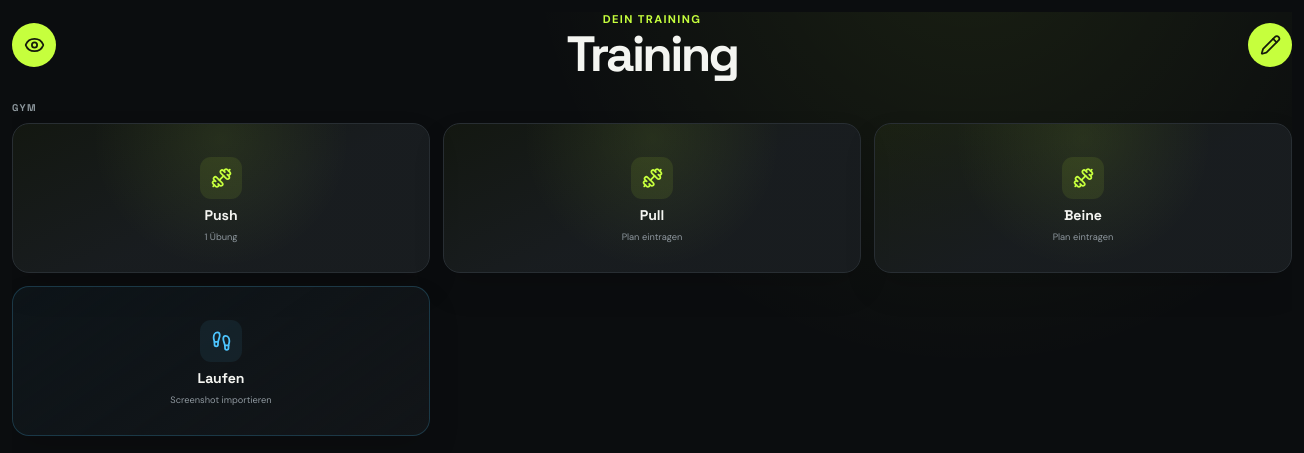
GYM-Workflow › zeigt einen klaren Empty State im Trainingsverlauf
Click the button named "Trainingsverlauf öffnen". click: (34, 45)
box: x1=12 y1=23 x2=56 y2=67
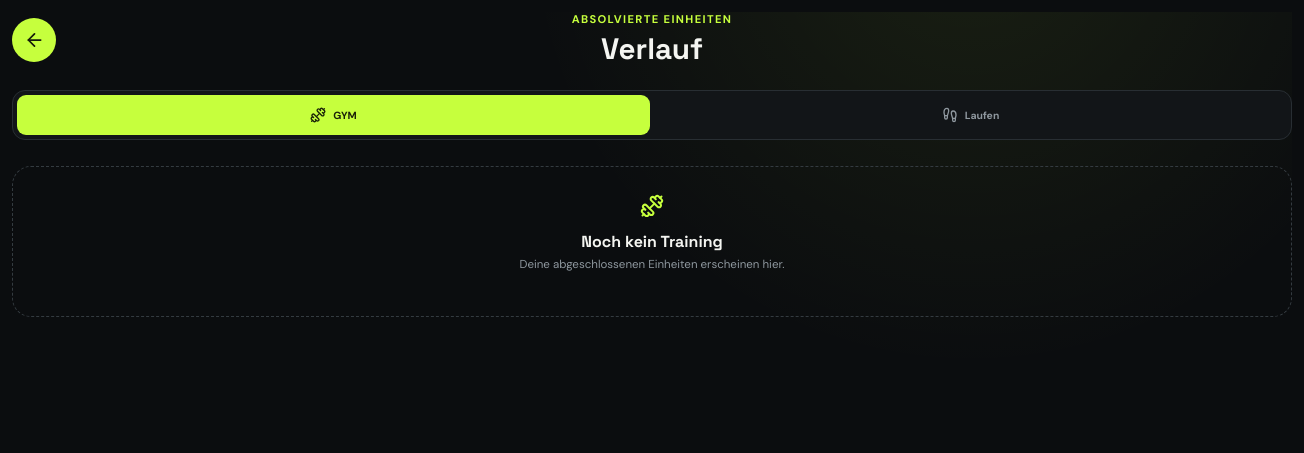
Expected: the heading "Noch kein Training" is shown, x1=581 y1=231 x2=723 y2=252
